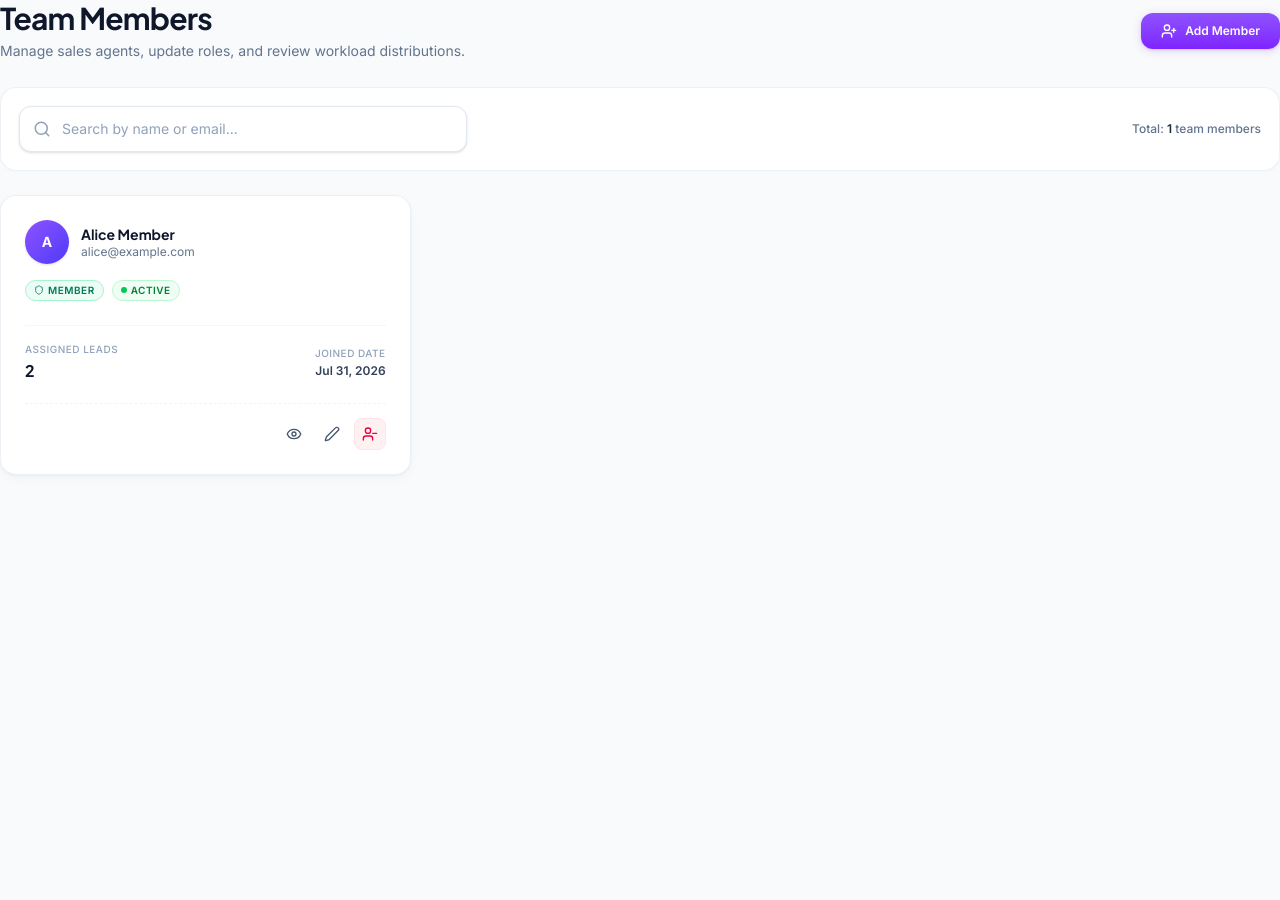
Members Page › allows viewing member profile details
Expected: the heading "Alice Member" is shown, [81,225,175,243]
Click the button titled "View Profile" at (294, 434), box [278,418,310,450]
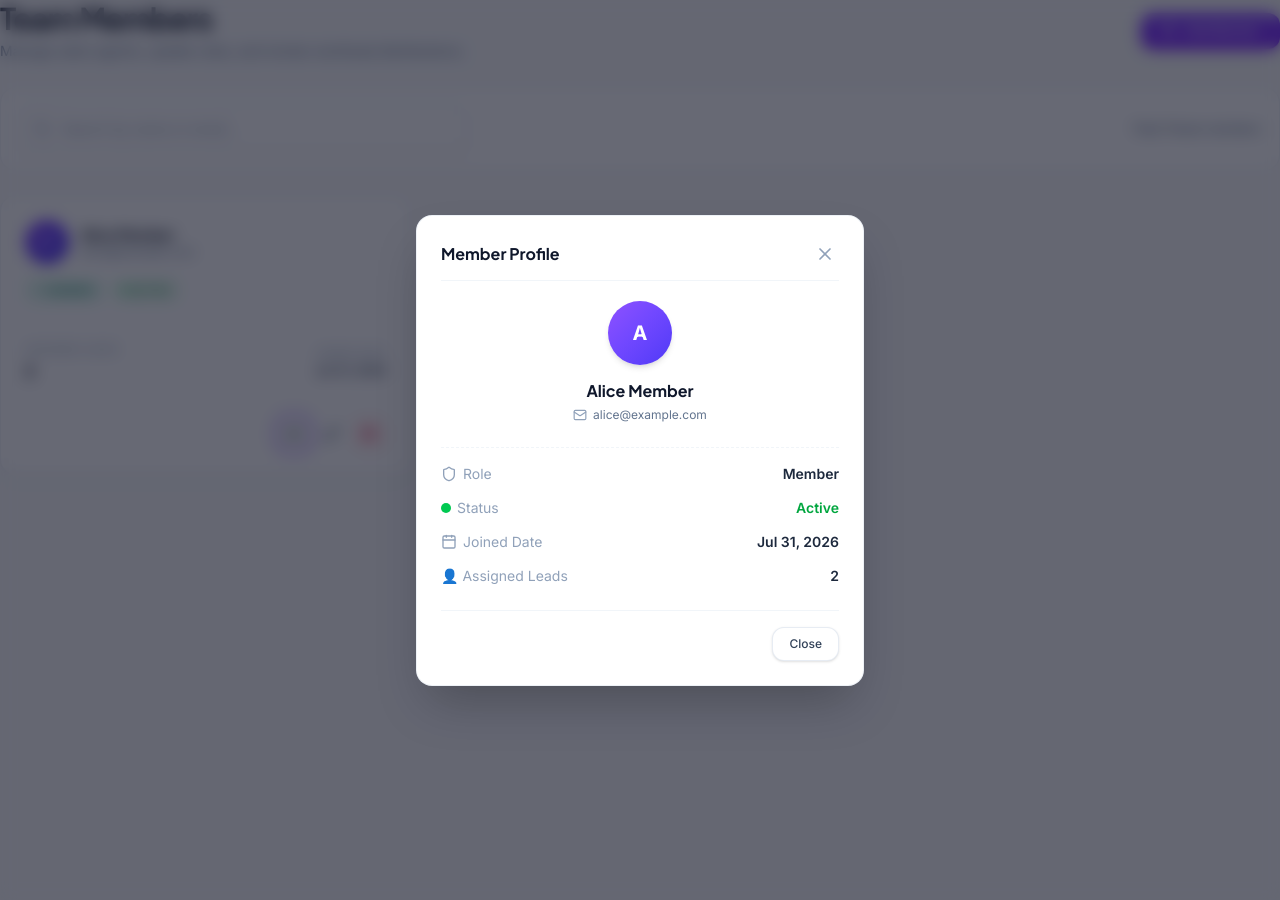
Expected: the heading "Member Profile" is shown, [441,242,560,266]
